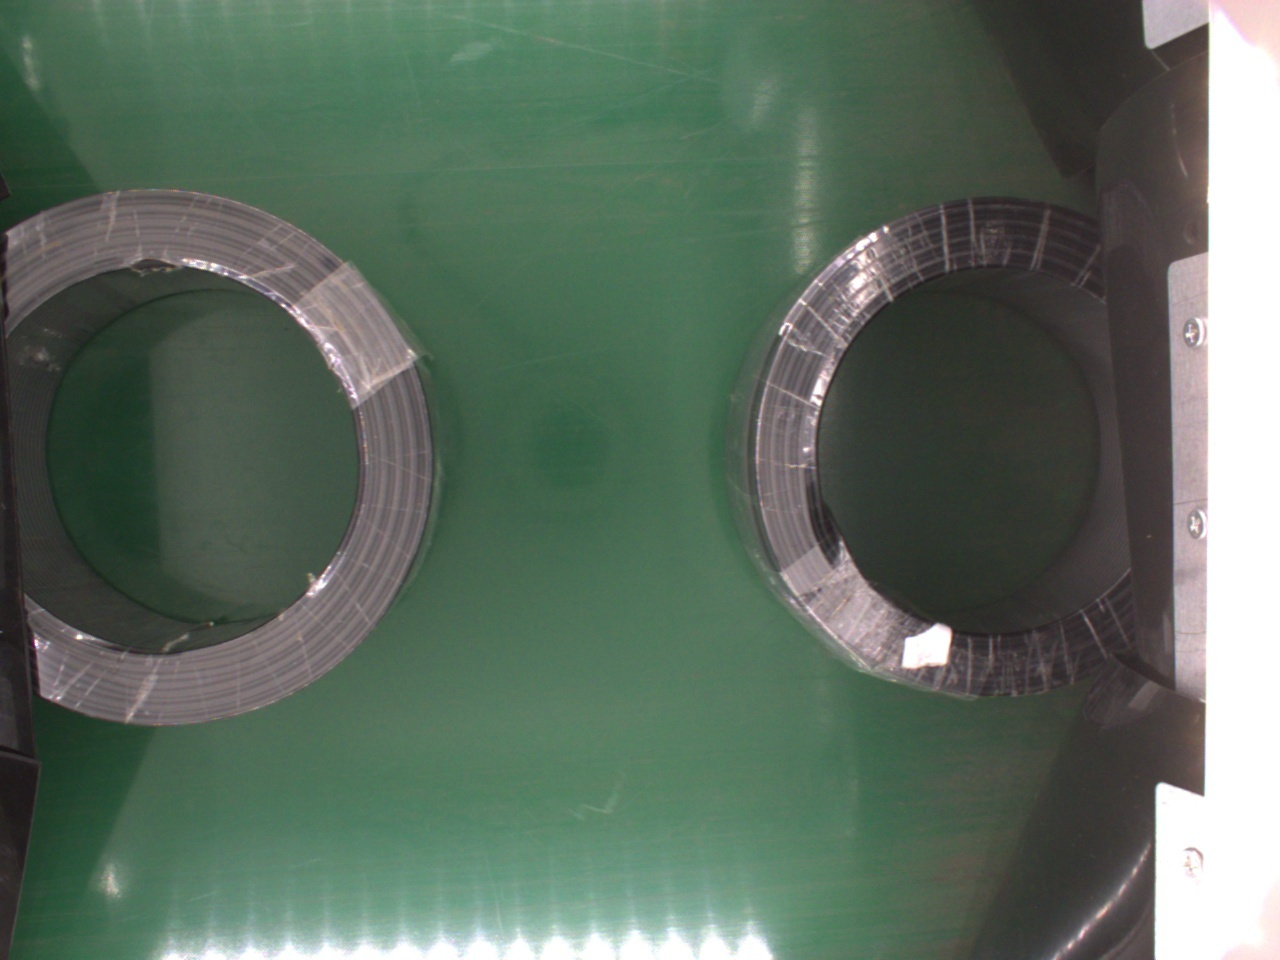black: (4, 188, 447, 731), (723, 195, 1140, 697)
